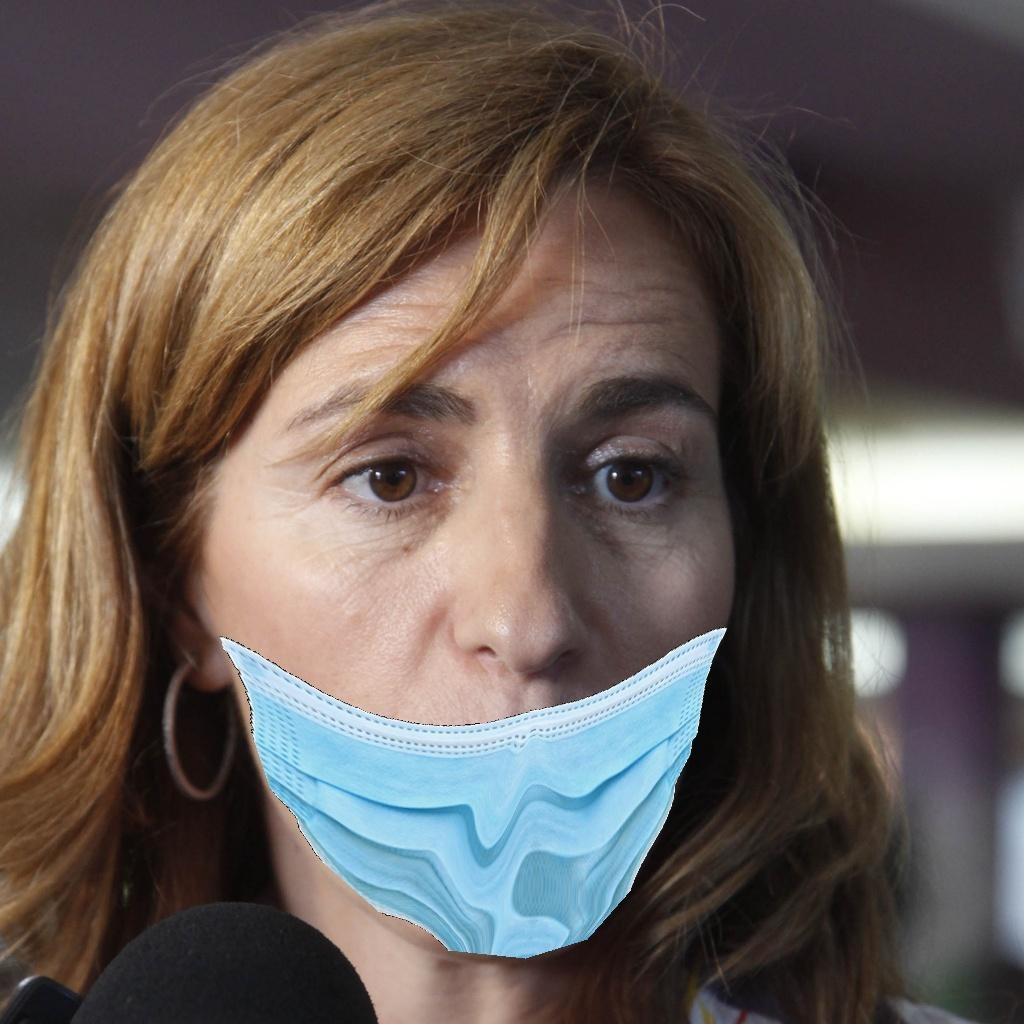Máscara Incorreta: (182, 310, 771, 926)
